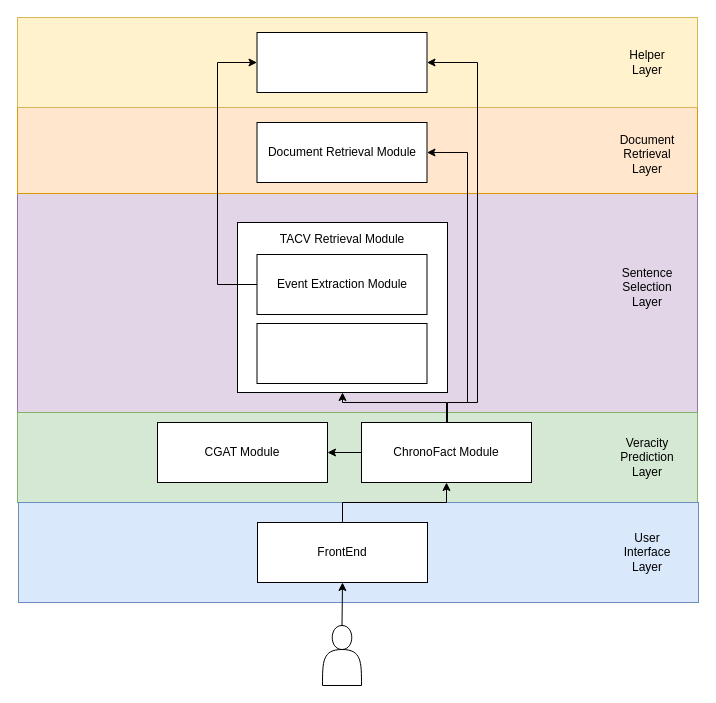
Image size: 716x703. Some labels were removed from this diagram. Each missing label, with the box of its shape:
OpenAI Caller Module: (256, 32, 427, 92)
TACV Sentence Selection Module: (256, 322, 427, 384)
